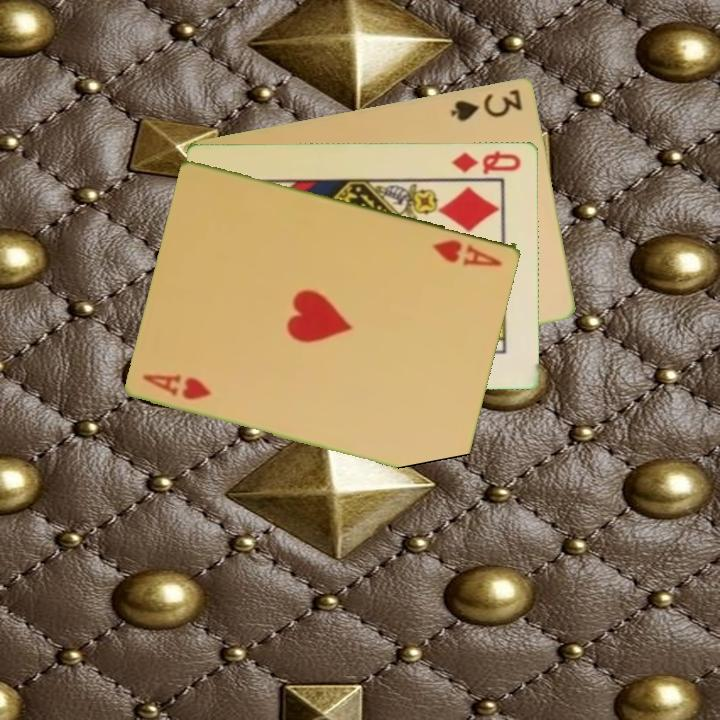3s: (447, 85, 526, 124)
Ah: (428, 235, 506, 270), (139, 370, 215, 403)
Qd: (449, 146, 524, 176)
